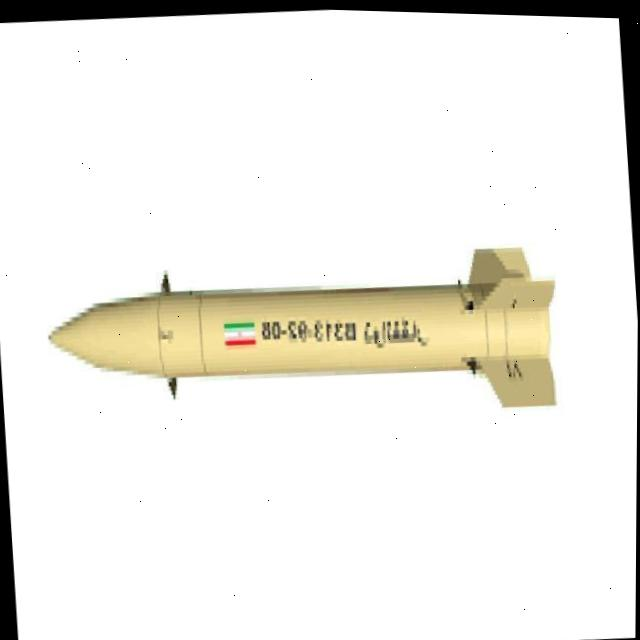missile: (39, 216, 563, 426)
